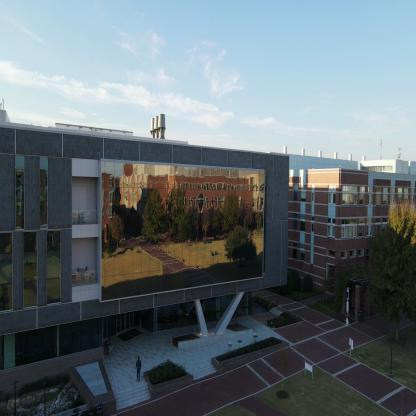EB-1: (291, 149, 415, 319)
Fitts- Woolard: (0, 150, 290, 388)
